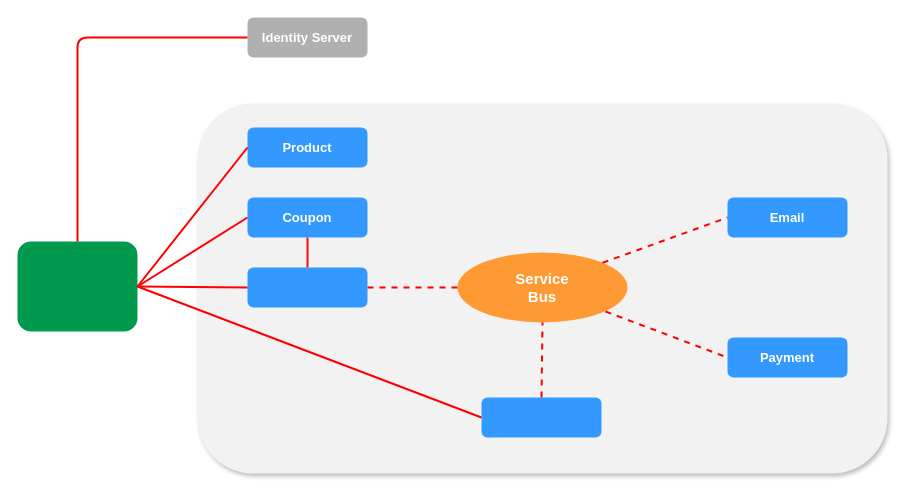
This 910x497 diagram has some shape labels left out. Each missing label, with the centre of its shape:
"MVC Application" goes at [77,286].
"Order" goes at [541,417].
"Shopping Cart" goes at [307,287].
